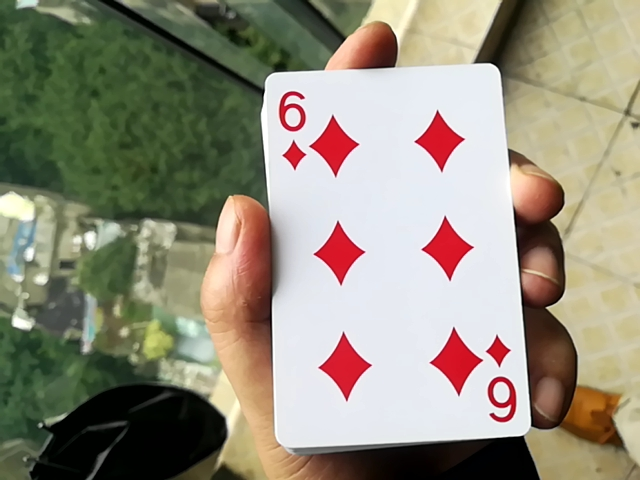fk 6: (241, 60, 544, 450)
